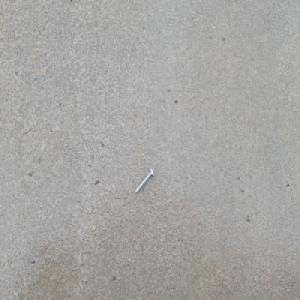Nail: (134, 167, 154, 196)
